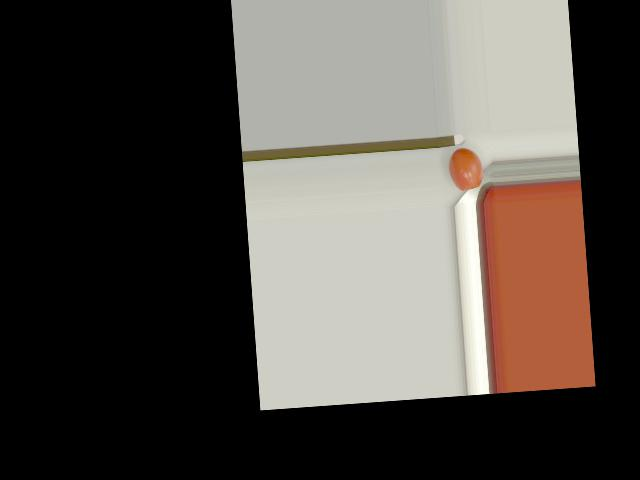tomato: (447, 147, 484, 192)
